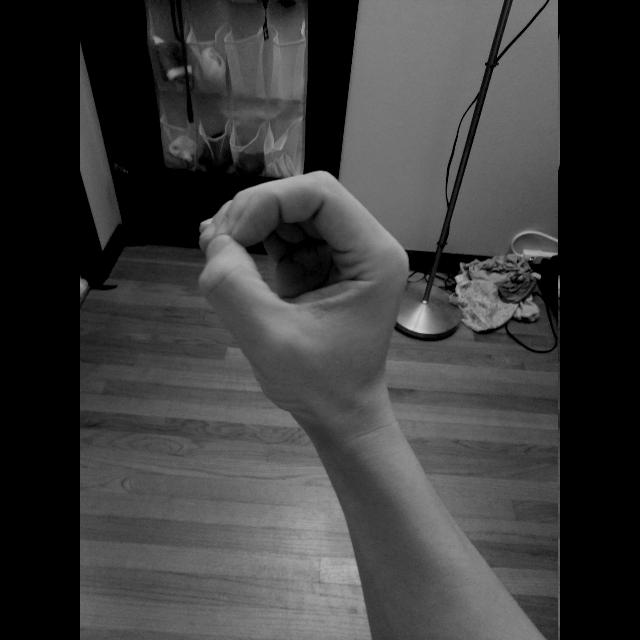O: (192, 165, 416, 422)
